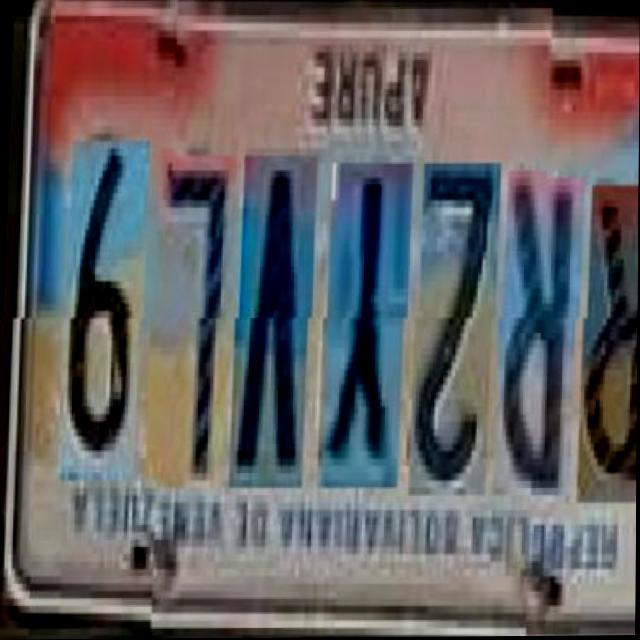2: (408, 164, 495, 497)
9: (56, 149, 143, 490)
l: (145, 157, 232, 490)
r: (493, 171, 579, 497), (576, 179, 639, 498)
v: (230, 157, 312, 489)
y: (316, 164, 407, 489)
